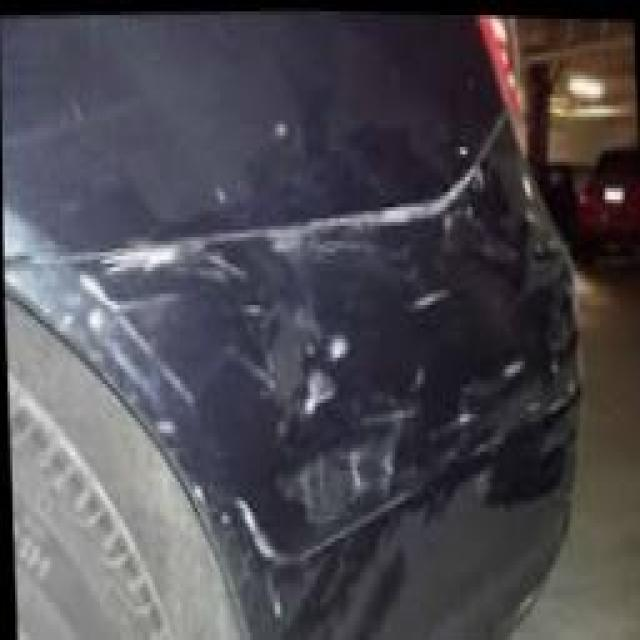Fender: (2, 52, 587, 640)
